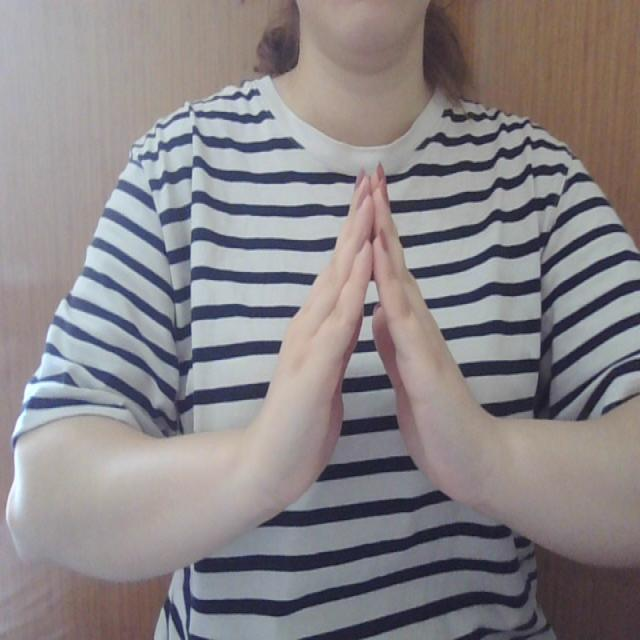Ev: (251, 157, 489, 506)
